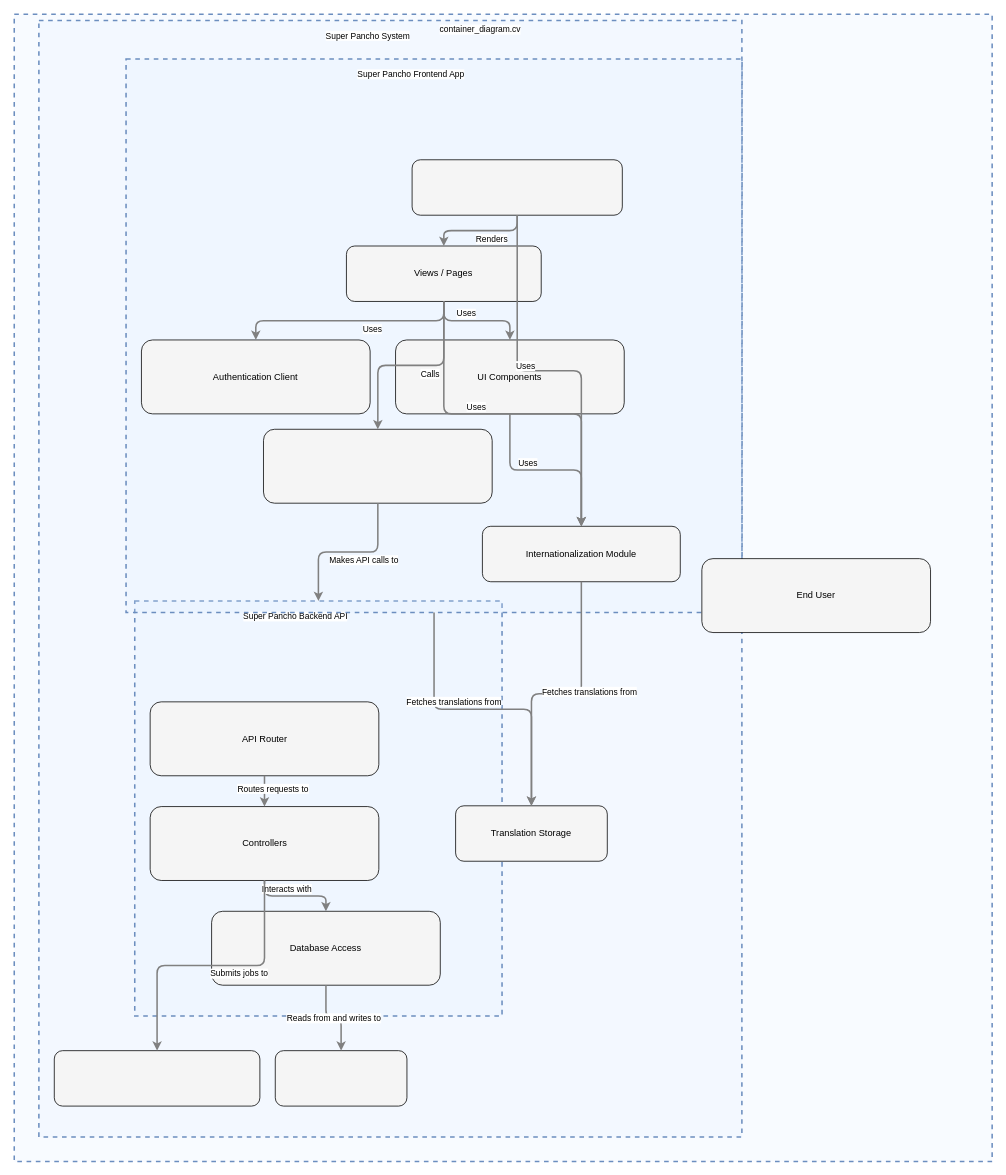
Some shapes in this 1006 by 1175 pixel diagram are drawn without their labels. The centre of each missing label's shape, as x and y in pixels:
"Apache Spark" goes at pixel 157 1078.
"API Client" goes at pixel 377 466.
"Main App / Router" goes at pixel 516 187.
"MongoDB Database" goes at pixel 341 1078.
